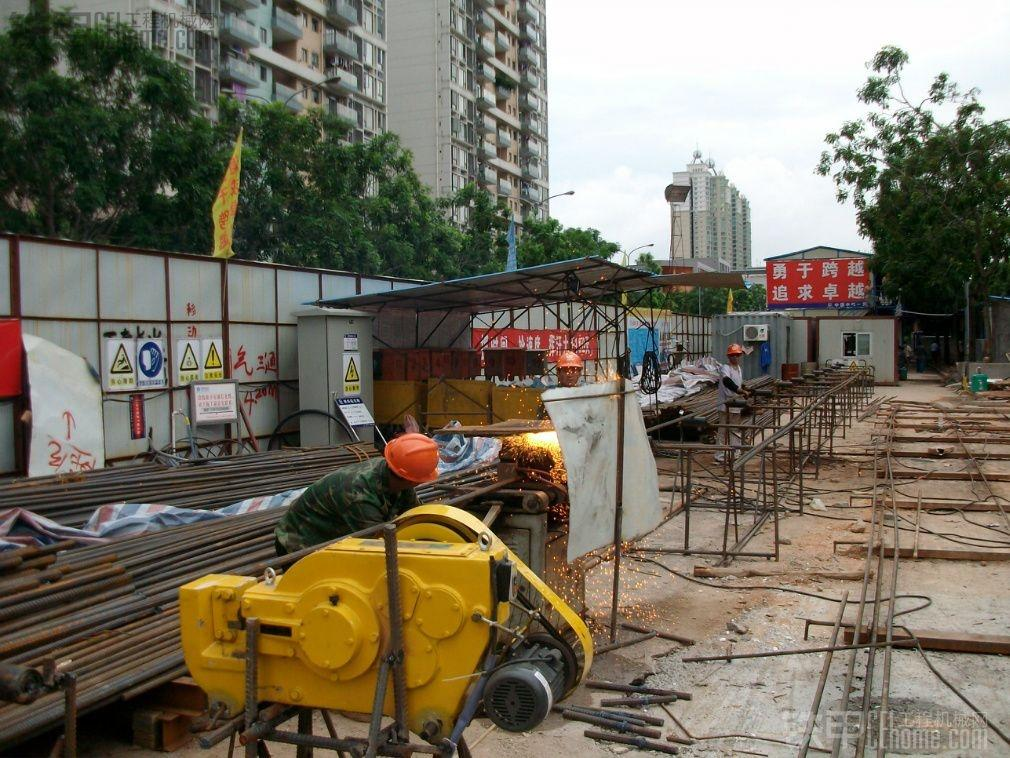Helmet: (381, 433, 440, 496)
